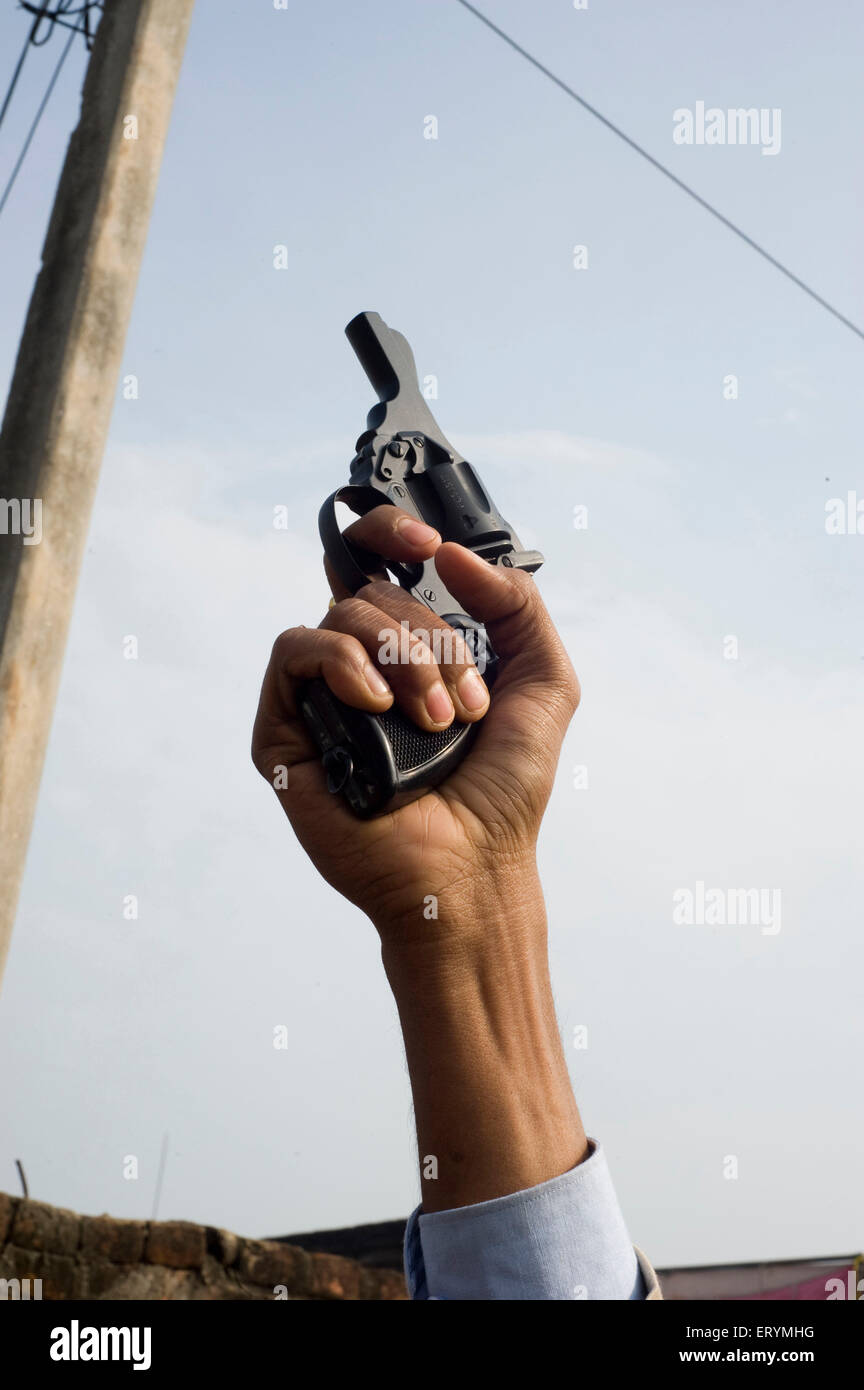gun: (288, 234, 633, 929)
